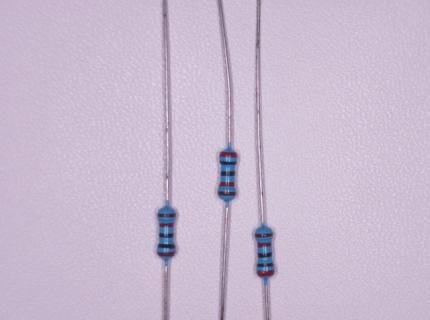Black band: (256, 262, 274, 268), (158, 243, 175, 249), (220, 160, 237, 166), (159, 232, 174, 238), (258, 252, 272, 258), (221, 171, 235, 176)
Brown band: (217, 191, 237, 196), (157, 213, 177, 218), (255, 233, 273, 238)
Red band: (257, 270, 275, 277), (219, 152, 238, 158), (257, 242, 272, 248), (159, 222, 174, 228), (158, 252, 175, 257), (220, 182, 235, 187)
